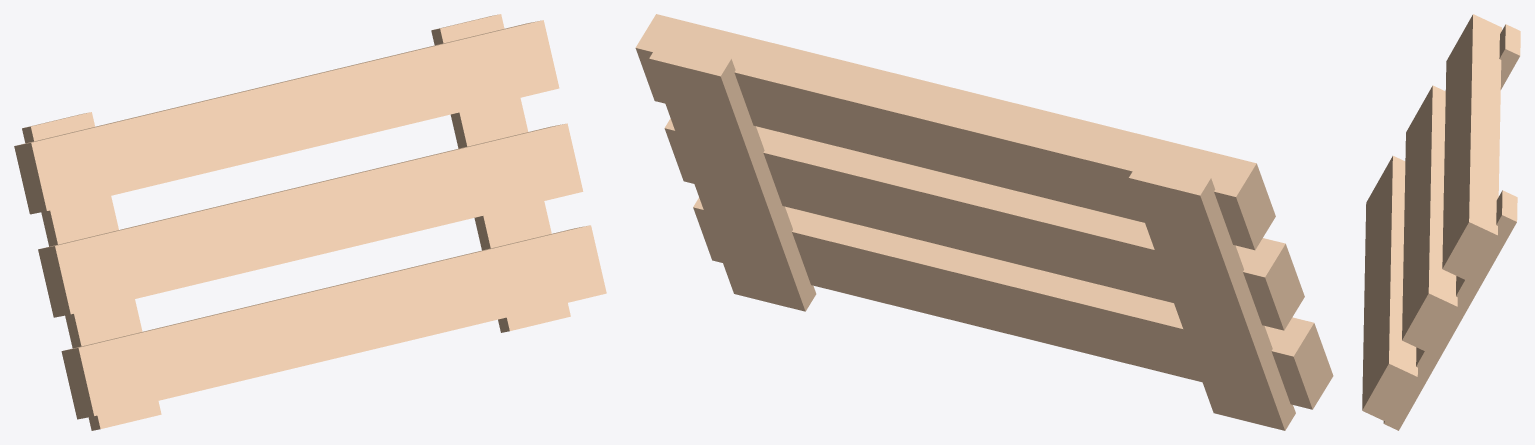
3 renders of one model, left to right at view 1: azimuth 30°, elevation 25°; view 2: azimuth 150°, elevation 25°; view 3: azimuth 270°, elevation 25°, orthographic. The views are drawn at different scales.
Parts seen in each view (by area): view 1: OJ4_4; view 2: OJ4_4; view 3: OJ4_4.
Boxes of the visible parts, left/top/right/bottom form: OJ4_4: left=14, top=14, right=606, bottom=430; OJ4_4: left=635, top=14, right=1333, bottom=430; OJ4_4: left=1362, top=14, right=1520, bottom=430.
Size of the model in its own units: 1.79 by 0.8765 by 0.5764.
Materials: 1 (1 with a texture image).
